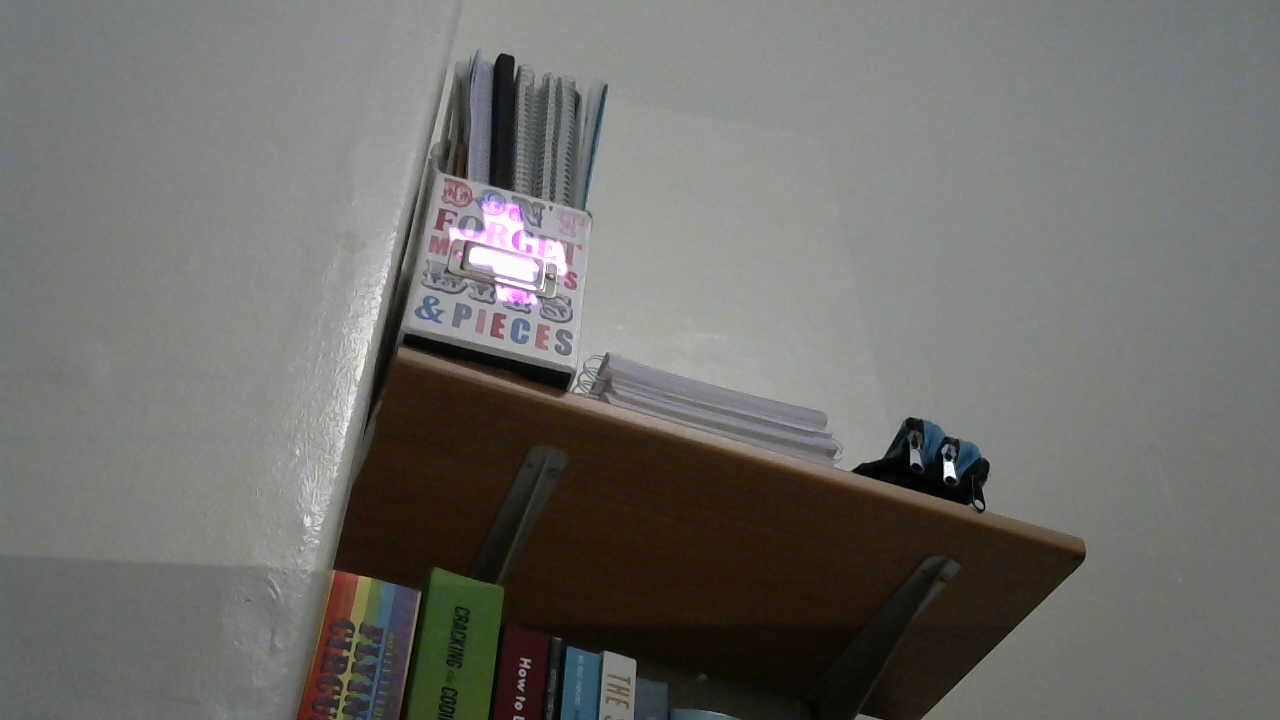calibration_symbol: (447, 200, 569, 305)
